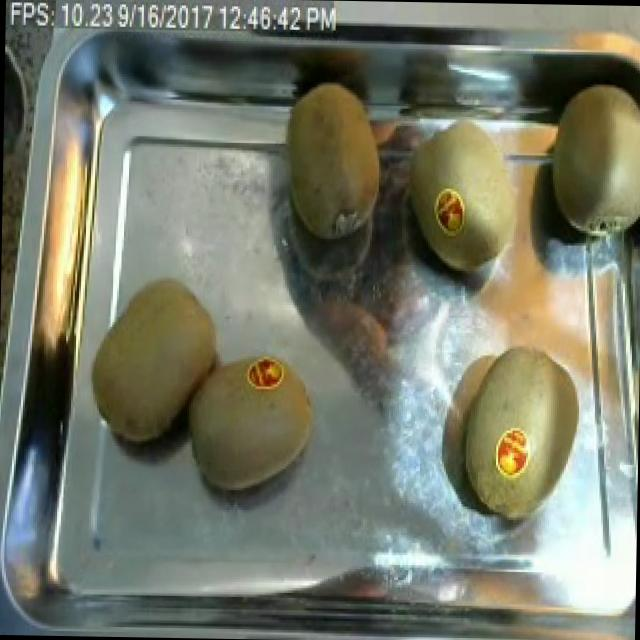Fruit: (432, 334, 594, 531), (81, 270, 230, 458), (170, 344, 326, 502), (272, 71, 396, 247), (533, 68, 640, 251)
